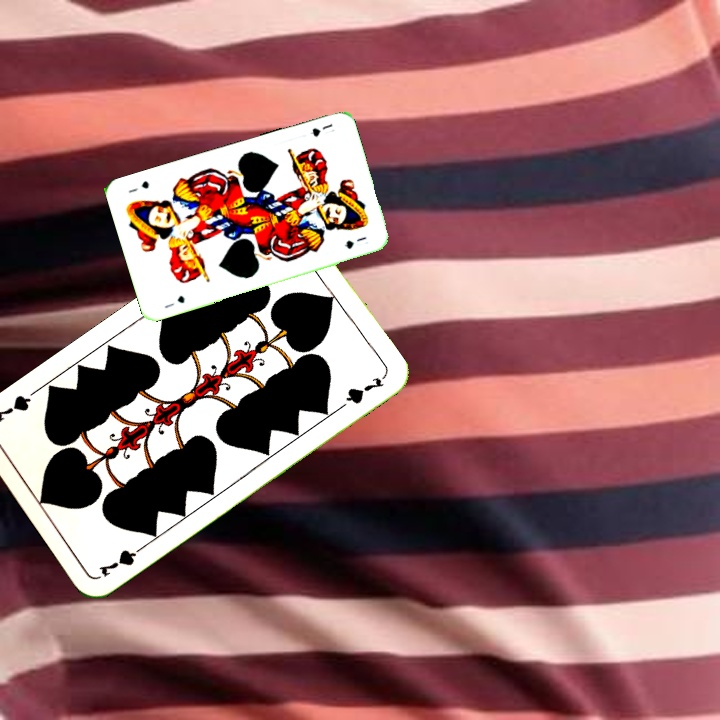G7: (94, 540, 149, 580)
GU: (307, 119, 337, 139), (160, 292, 187, 311)
